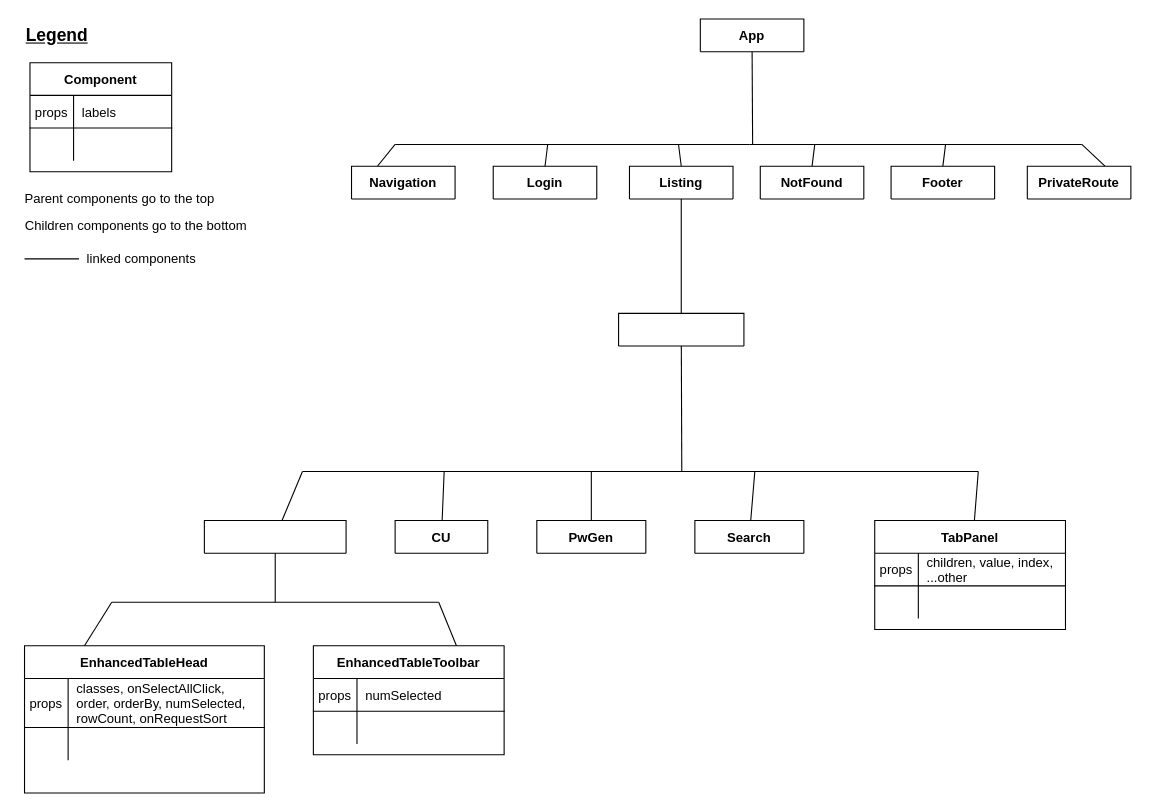
Image size: 1150x812. Some labels were removed from this diagram. Each missing label, with the centre of its shape:
AdminPanel: (680,329)
EnhancedTable: (274,536)
